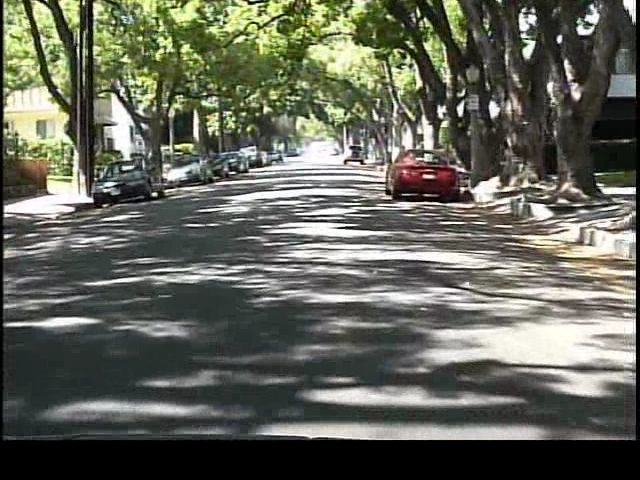person: (146, 145, 166, 185)
